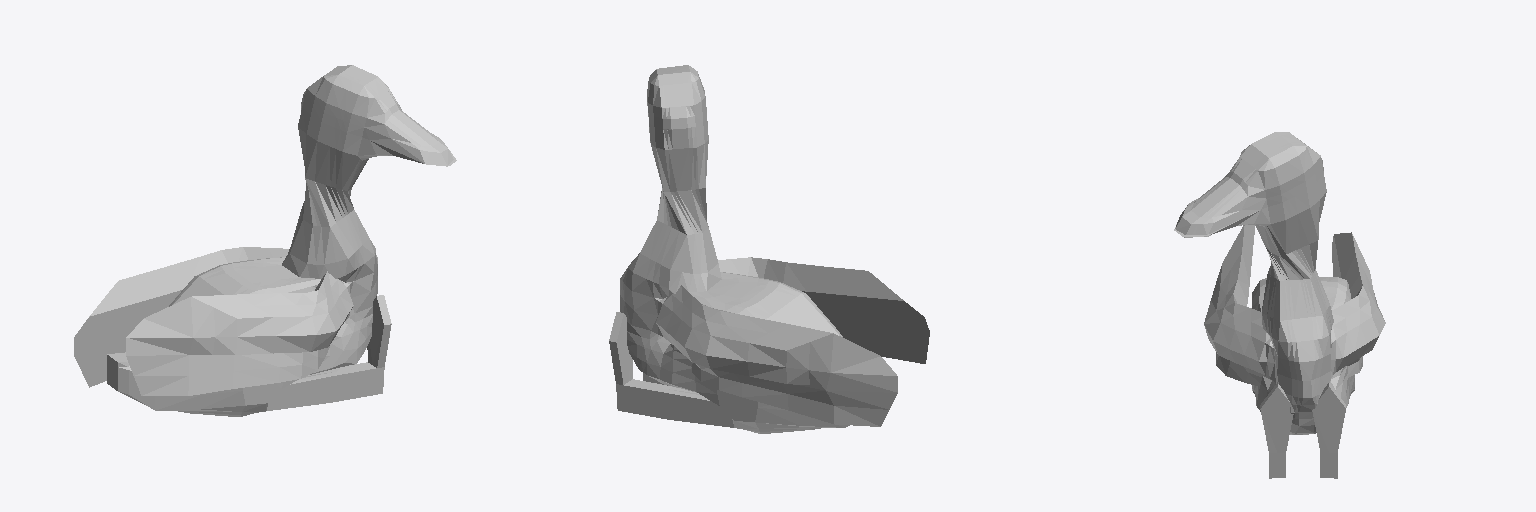
The model's file is goose.obj.
3 renders of one model, left to right at view 1: azimuth 30°, elevation 25°; view 2: azimuth 150°, elevation 25°; view 3: azimuth 270°, elevation 25°, orthographic.
Visible parts, largest first — view 1: Cube.005; view 2: Cube.005; view 3: Cube.005.
Part boxes in pixels (x1,y1,x2,y2): Cube.005: (74,65,456,416); Cube.005: (609,65,929,433); Cube.005: (1174,132,1385,478).
Size of the model in its own units: 3.15 by 3.15 by 1.85.